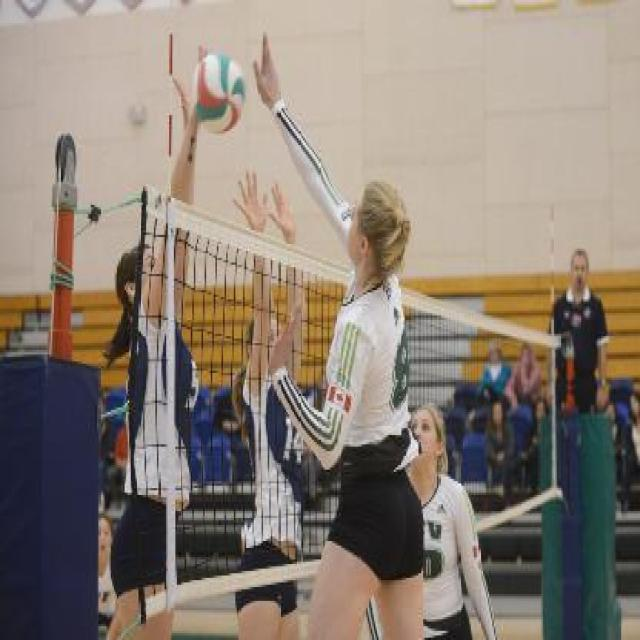volleyball: (190, 53, 247, 136)
